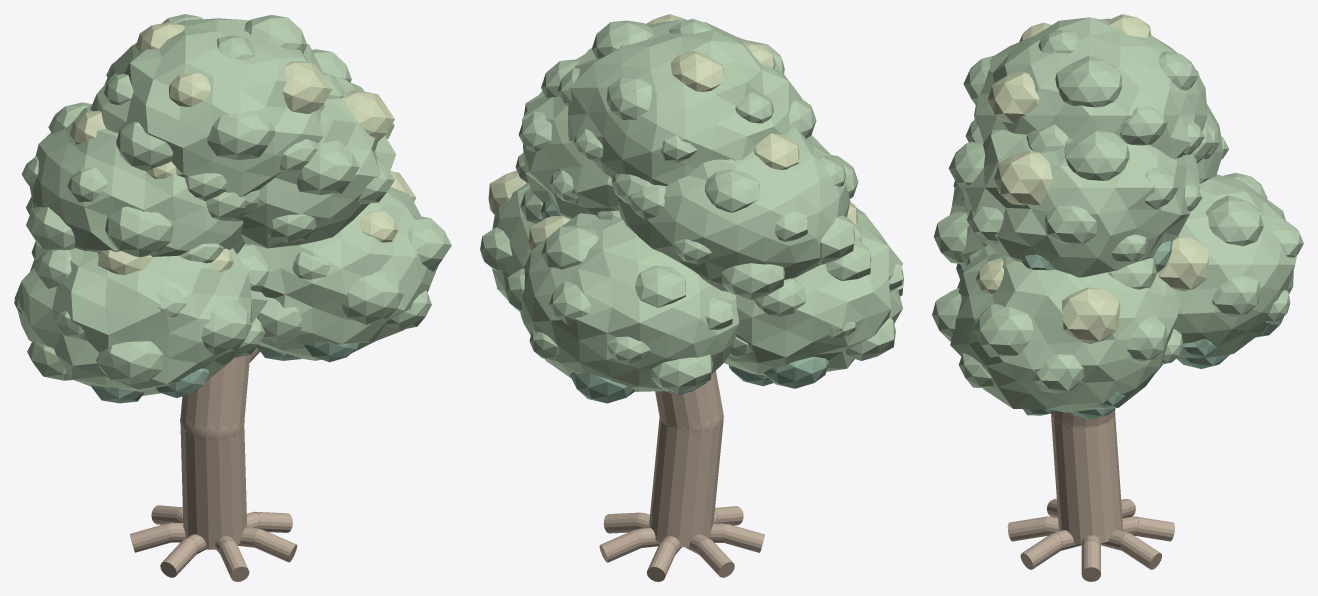
File: library_tree_oak.glb
3 views of the same model, side by side, from view 1: azimuth 30°, elevation 25°; view 2: azimuth 150°, elevation 25°; view 3: azimuth 270°, elevation 25° (orthographic).
Parts seen in each view (by area): view 1: decor_709568_matte, decor_806751_matte, decor_9bab72_matte, decor_466d54_matte; view 2: decor_709568_matte, decor_806751_matte, decor_9bab72_matte, decor_466d54_matte; view 3: decor_709568_matte, decor_806751_matte, decor_9bab72_matte, decor_466d54_matte.
Boxes of the visible parts, box(x1,y1,x2,y2) form: decor_709568_matte: box(14, 14, 451, 395); decor_806751_matte: box(130, 347, 297, 581); decor_9bab72_matte: box(69, 22, 416, 274); decor_466d54_matte: box(90, 342, 359, 403); decor_709568_matte: box(480, 18, 903, 393); decor_806751_matte: box(599, 371, 764, 581); decor_9bab72_matte: box(488, 14, 857, 253); decor_466d54_matte: box(497, 201, 828, 403); decor_709568_matte: box(932, 17, 1303, 412); decor_806751_matte: box(1007, 409, 1174, 581); decor_9bab72_matte: box(975, 14, 1209, 343); decor_466d54_matte: box(956, 241, 1283, 419).
Bounding box in the file's own units: 3.3 × 4.08 × 2.67.
